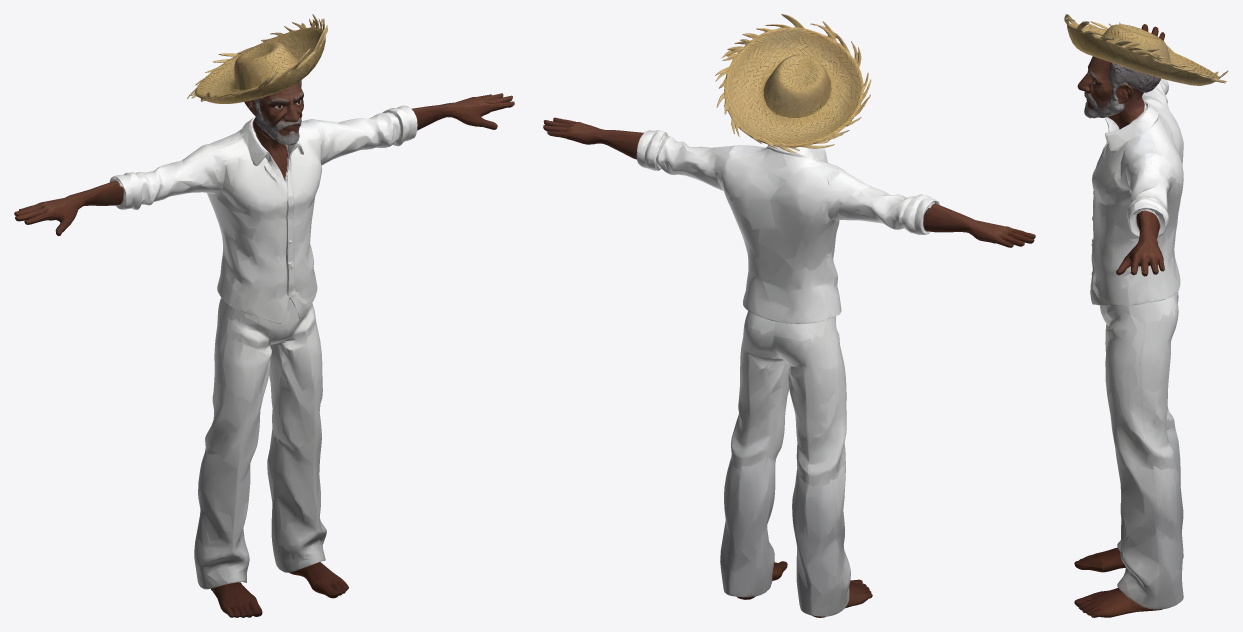
Rendered from Capoeira Game_Meshy V6_2026-10-29_02-01-17.glb.
3 renders of one model, left to right at view 1: azimuth 30°, elevation 25°; view 2: azimuth 150°, elevation 25°; view 3: azimuth 270°, elevation 25°, orthographic. The views are drawn at different scales.
Parts seen in each view (by area): view 1: Mesh_0; view 2: Mesh_0; view 3: Mesh_0.
Boxes of the visible parts, x1=… form: Mesh_0: x1=14, y1=14, x2=514, y2=617; Mesh_0: x1=543, y1=14, x2=1035, y2=617; Mesh_0: x1=1064, y1=14, x2=1228, y2=617.
Size of the model in its own units: 1.74 by 1.9 by 0.484.
Materials: 1 (1 with a texture image).
